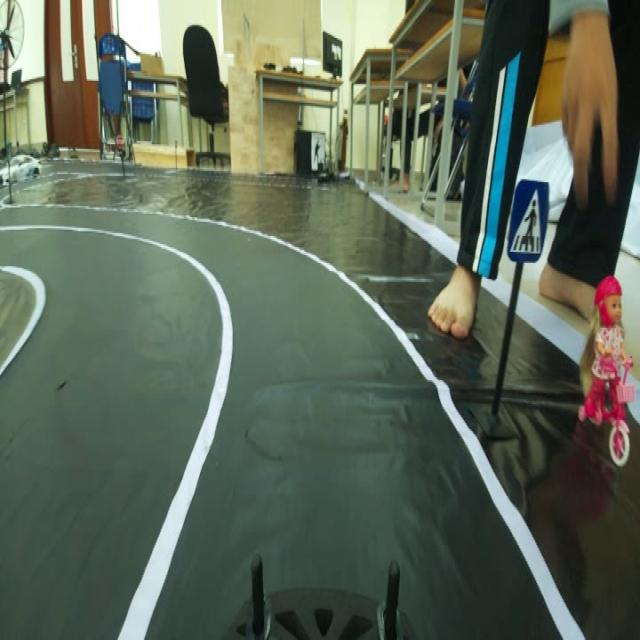crosswalk: (507, 175, 550, 261)
pedestrian: (572, 267, 634, 466)
